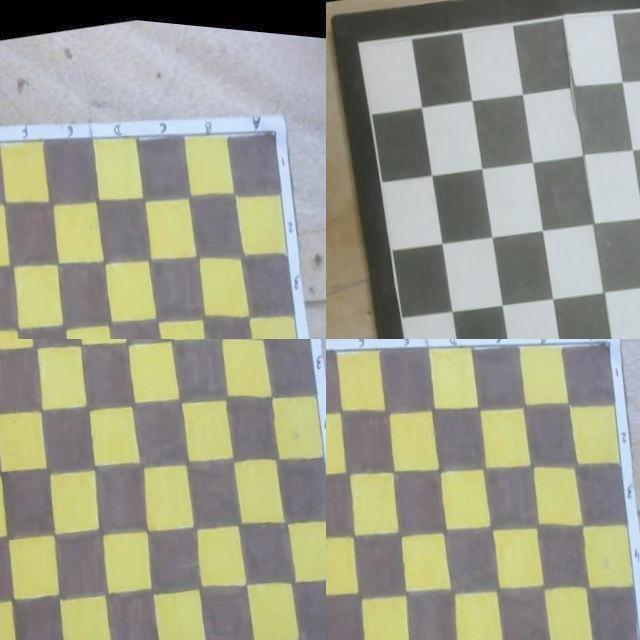chess-table-corners: (356, 37, 366, 49), (605, 339, 613, 344), (272, 120, 278, 126), (293, 339, 302, 343), (326, 348, 329, 357), (0, 140, 2, 148)
